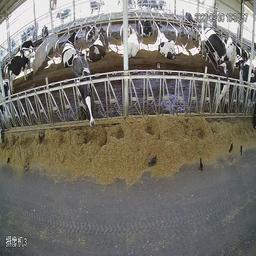cow: (71, 52, 96, 129), (6, 46, 37, 91), (214, 60, 234, 114), (202, 29, 225, 67), (155, 22, 176, 61), (89, 26, 107, 63), (62, 31, 78, 68), (127, 24, 141, 59)
